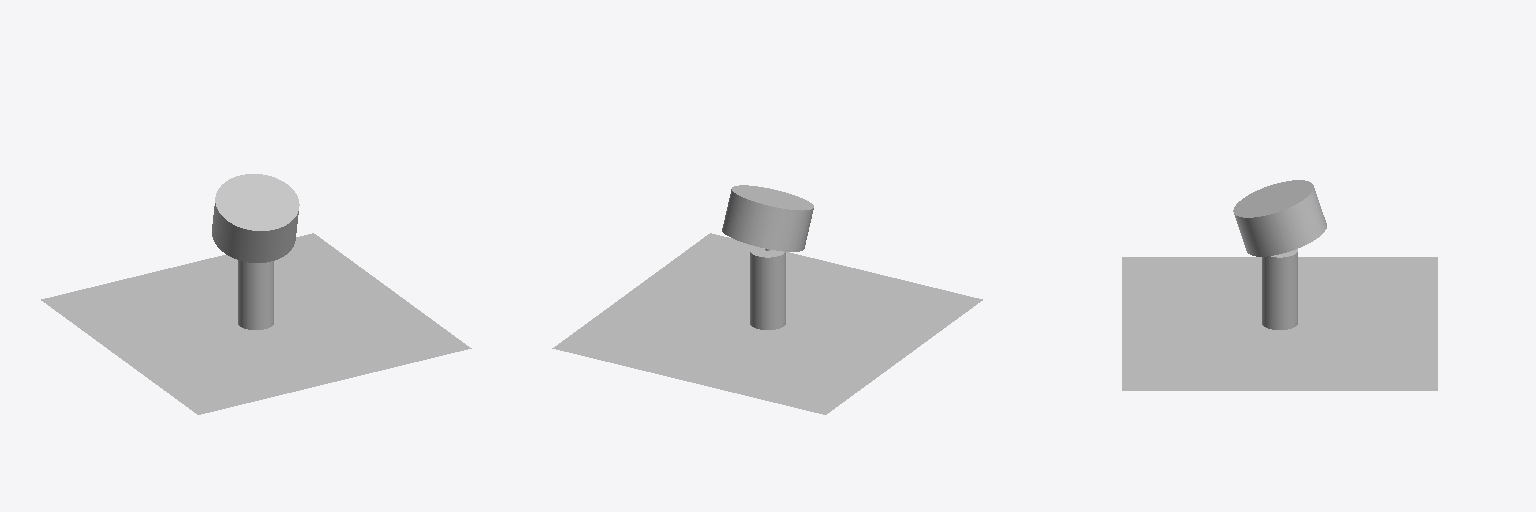
File: lamp26.obj
3 views of the same model, side by side, from view 1: azimuth 30°, elevation 25°; view 2: azimuth 150°, elevation 25°; view 3: azimuth 270°, elevation 25° (orthographic).
Parts seen in each view (by area): view 1: Plane, Cylinder.002, Cylinder; view 2: Plane, Cylinder.002, Cylinder; view 3: Plane, Cylinder.002, Cylinder.
Part boxes in pixels (left/top/right/bottom): Plane: left=41, top=233, right=471, bottom=414; Cylinder.002: left=212, top=174, right=299, bottom=262; Cylinder: left=238, top=260, right=273, bottom=329; Plane: left=552, top=233, right=982, bottom=414; Cylinder.002: left=722, top=185, right=813, bottom=251; Cylinder: left=750, top=259, right=785, bottom=329; Plane: left=1122, top=257, right=1437, bottom=390; Cylinder.002: left=1233, top=180, right=1326, bottom=256; Cylinder: left=1262, top=259, right=1297, bottom=329.
Bounding box in the file's own units: 17.18 × 8.19 × 17.18.